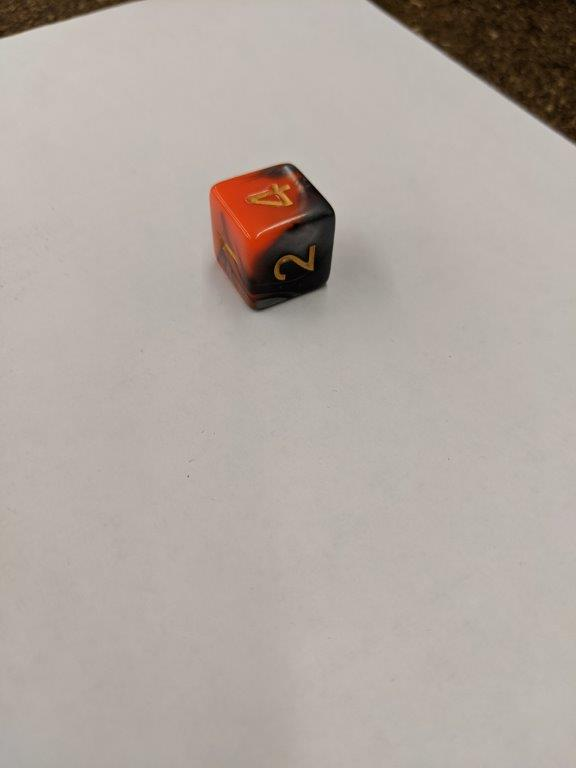d6-4: (207, 158, 338, 312)
